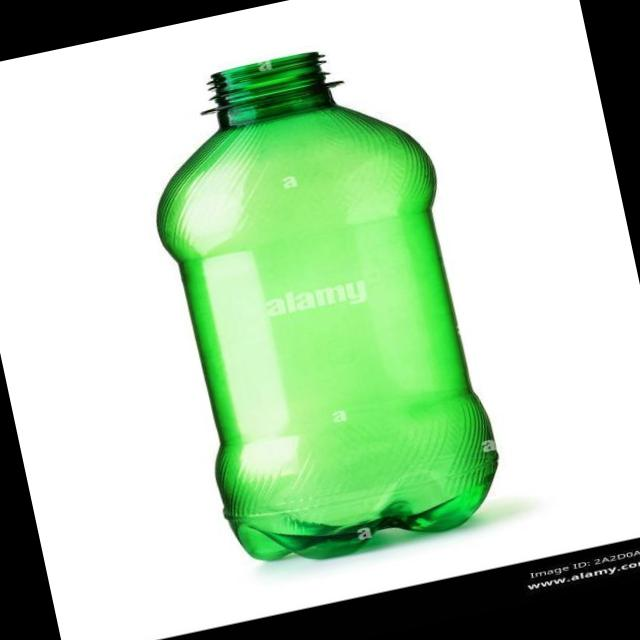Galon: (125, 28, 512, 580)
